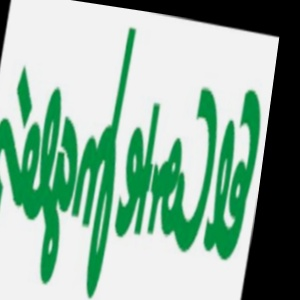corte_ingles: (272, 39, 277, 56)
